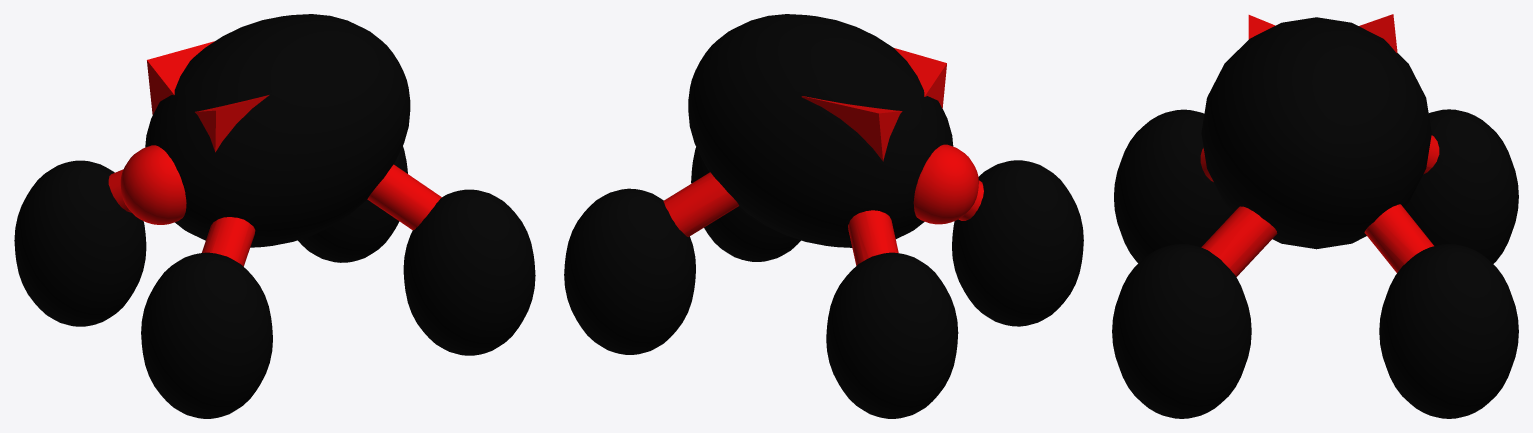
File: boss3.fbx
3 views of the same model, side by side, from view 1: azimuth 30°, elevation 25°; view 2: azimuth 150°, elevation 25°; view 3: azimuth 270°, elevation 25° (orthographic). The views are drawn at different scales.
Visible parts, largest first — view 1: polySurface12; view 2: polySurface12; view 3: polySurface12.
Boxes of the visible parts, x1,y1,x2,y2 form: polySurface12: (14,14,535,418); polySurface12: (564,14,1083,418); polySurface12: (1112,14,1518,418).
Size of the model in its own units: 6.56 by 5.09 by 5.83.
